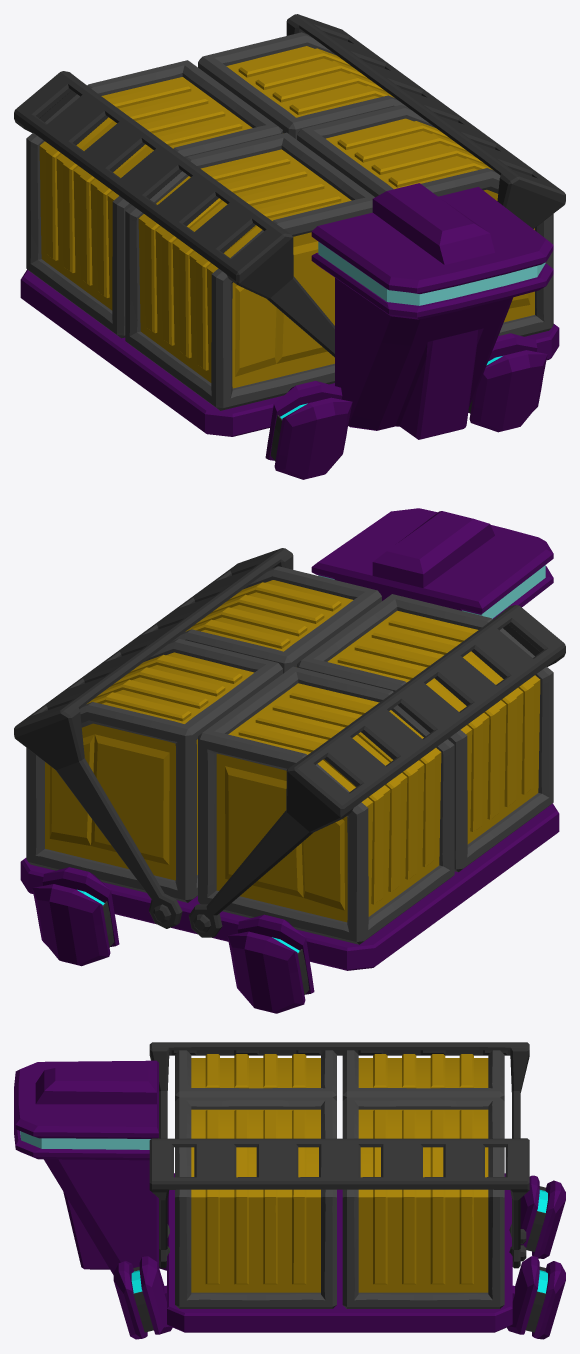
The model's file is CargoLarge.fbx.
The picture shows the model from 3 angles, top to bottom: view 1: azimuth 30°, elevation 25°; view 2: azimuth 150°, elevation 25°; view 3: azimuth 270°, elevation 25°; orthographic projection. The views are drawn at different scales.
Parts seen in each view (by area): view 1: Truck; view 2: Truck; view 3: Truck.
Part boxes in pixels (<box>): Truck: <box>14,14,565,479</box>; Truck: <box>14,508,565,1013</box>; Truck: <box>14,1042,565,1339</box>.
Size of the model in its own units: 256 by 180 by 409.
